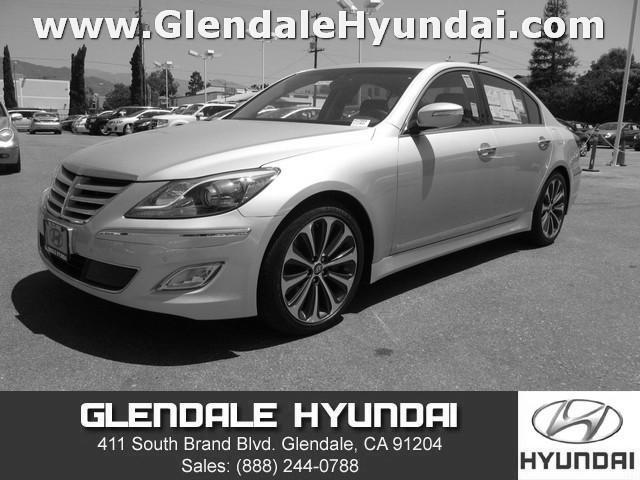car: (35, 62, 583, 341)
